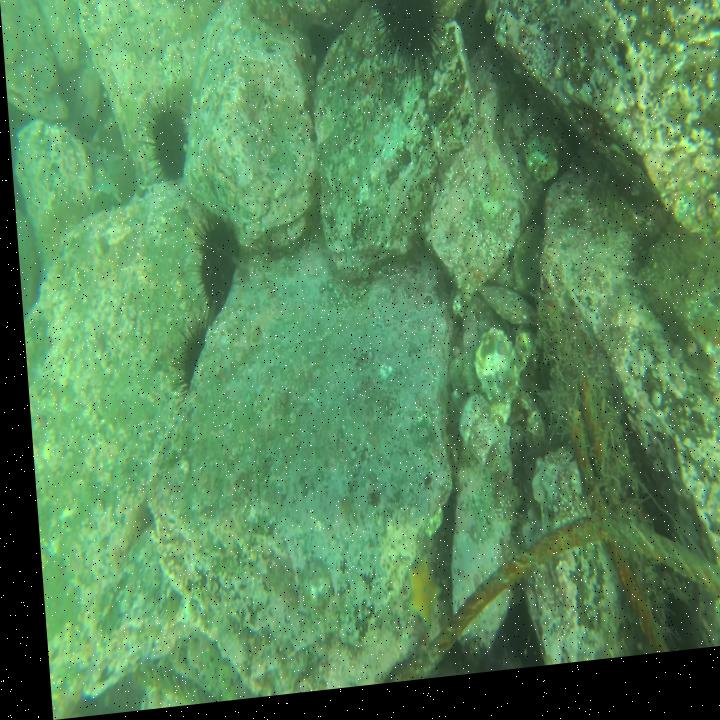echinus: (364, 0, 448, 99), (181, 213, 240, 314), (136, 95, 191, 193), (163, 321, 210, 407), (29, 192, 85, 264)
scallop: (465, 333, 518, 414), (517, 140, 559, 194)
starfish: (393, 560, 435, 636)
